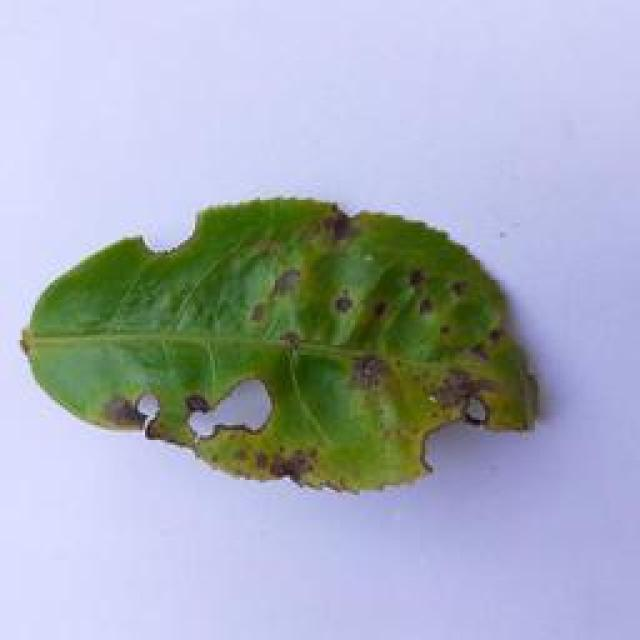Helopeltis: (12, 189, 551, 508)
